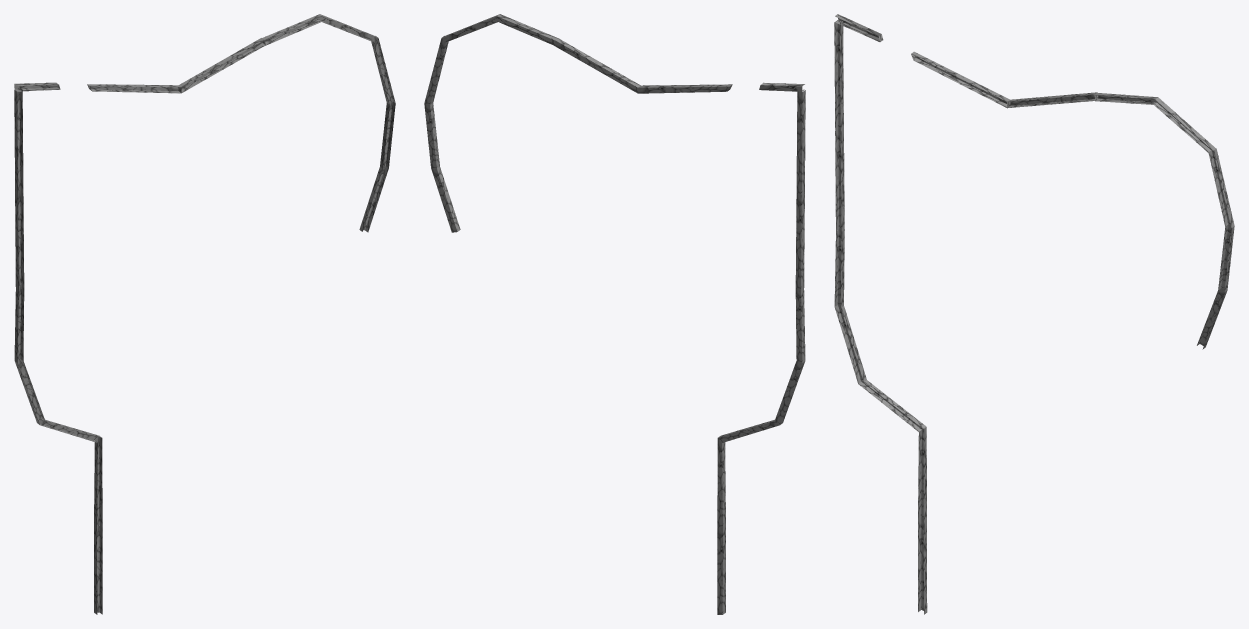
Rendered from tuong 13.fbx.
The picture shows the model from 3 angles, left to right: view 1: azimuth 30°, elevation 25°; view 2: azimuth 150°, elevation 25°; view 3: azimuth 330°, elevation 25°; orthographic projection. The views are drawn at different scales.
Visible parts, largest first — view 1: polySurface59, polySurface46, polySurface50; view 2: polySurface59, polySurface46, polySurface50; view 3: polySurface59, polySurface46, polySurface50.
Boxes of the visible parts, <box> form: polySurface59: <box>14,87,102,614</box>; polySurface46: <box>260,14,395,232</box>; polySurface50: <box>87,38,265,93</box>; polySurface59: <box>717,90,805,614</box>; polySurface46: <box>424,14,557,232</box>; polySurface50: <box>554,38,732,93</box>; polySurface59: <box>834,20,927,614</box>; polySurface46: <box>1093,92,1234,349</box>; polySurface50: <box>911,51,1098,108</box>.
Size of the model in its own units: 15.47 by 21.47 by 0.2323.
Materials: 1 (1 with a texture image).
